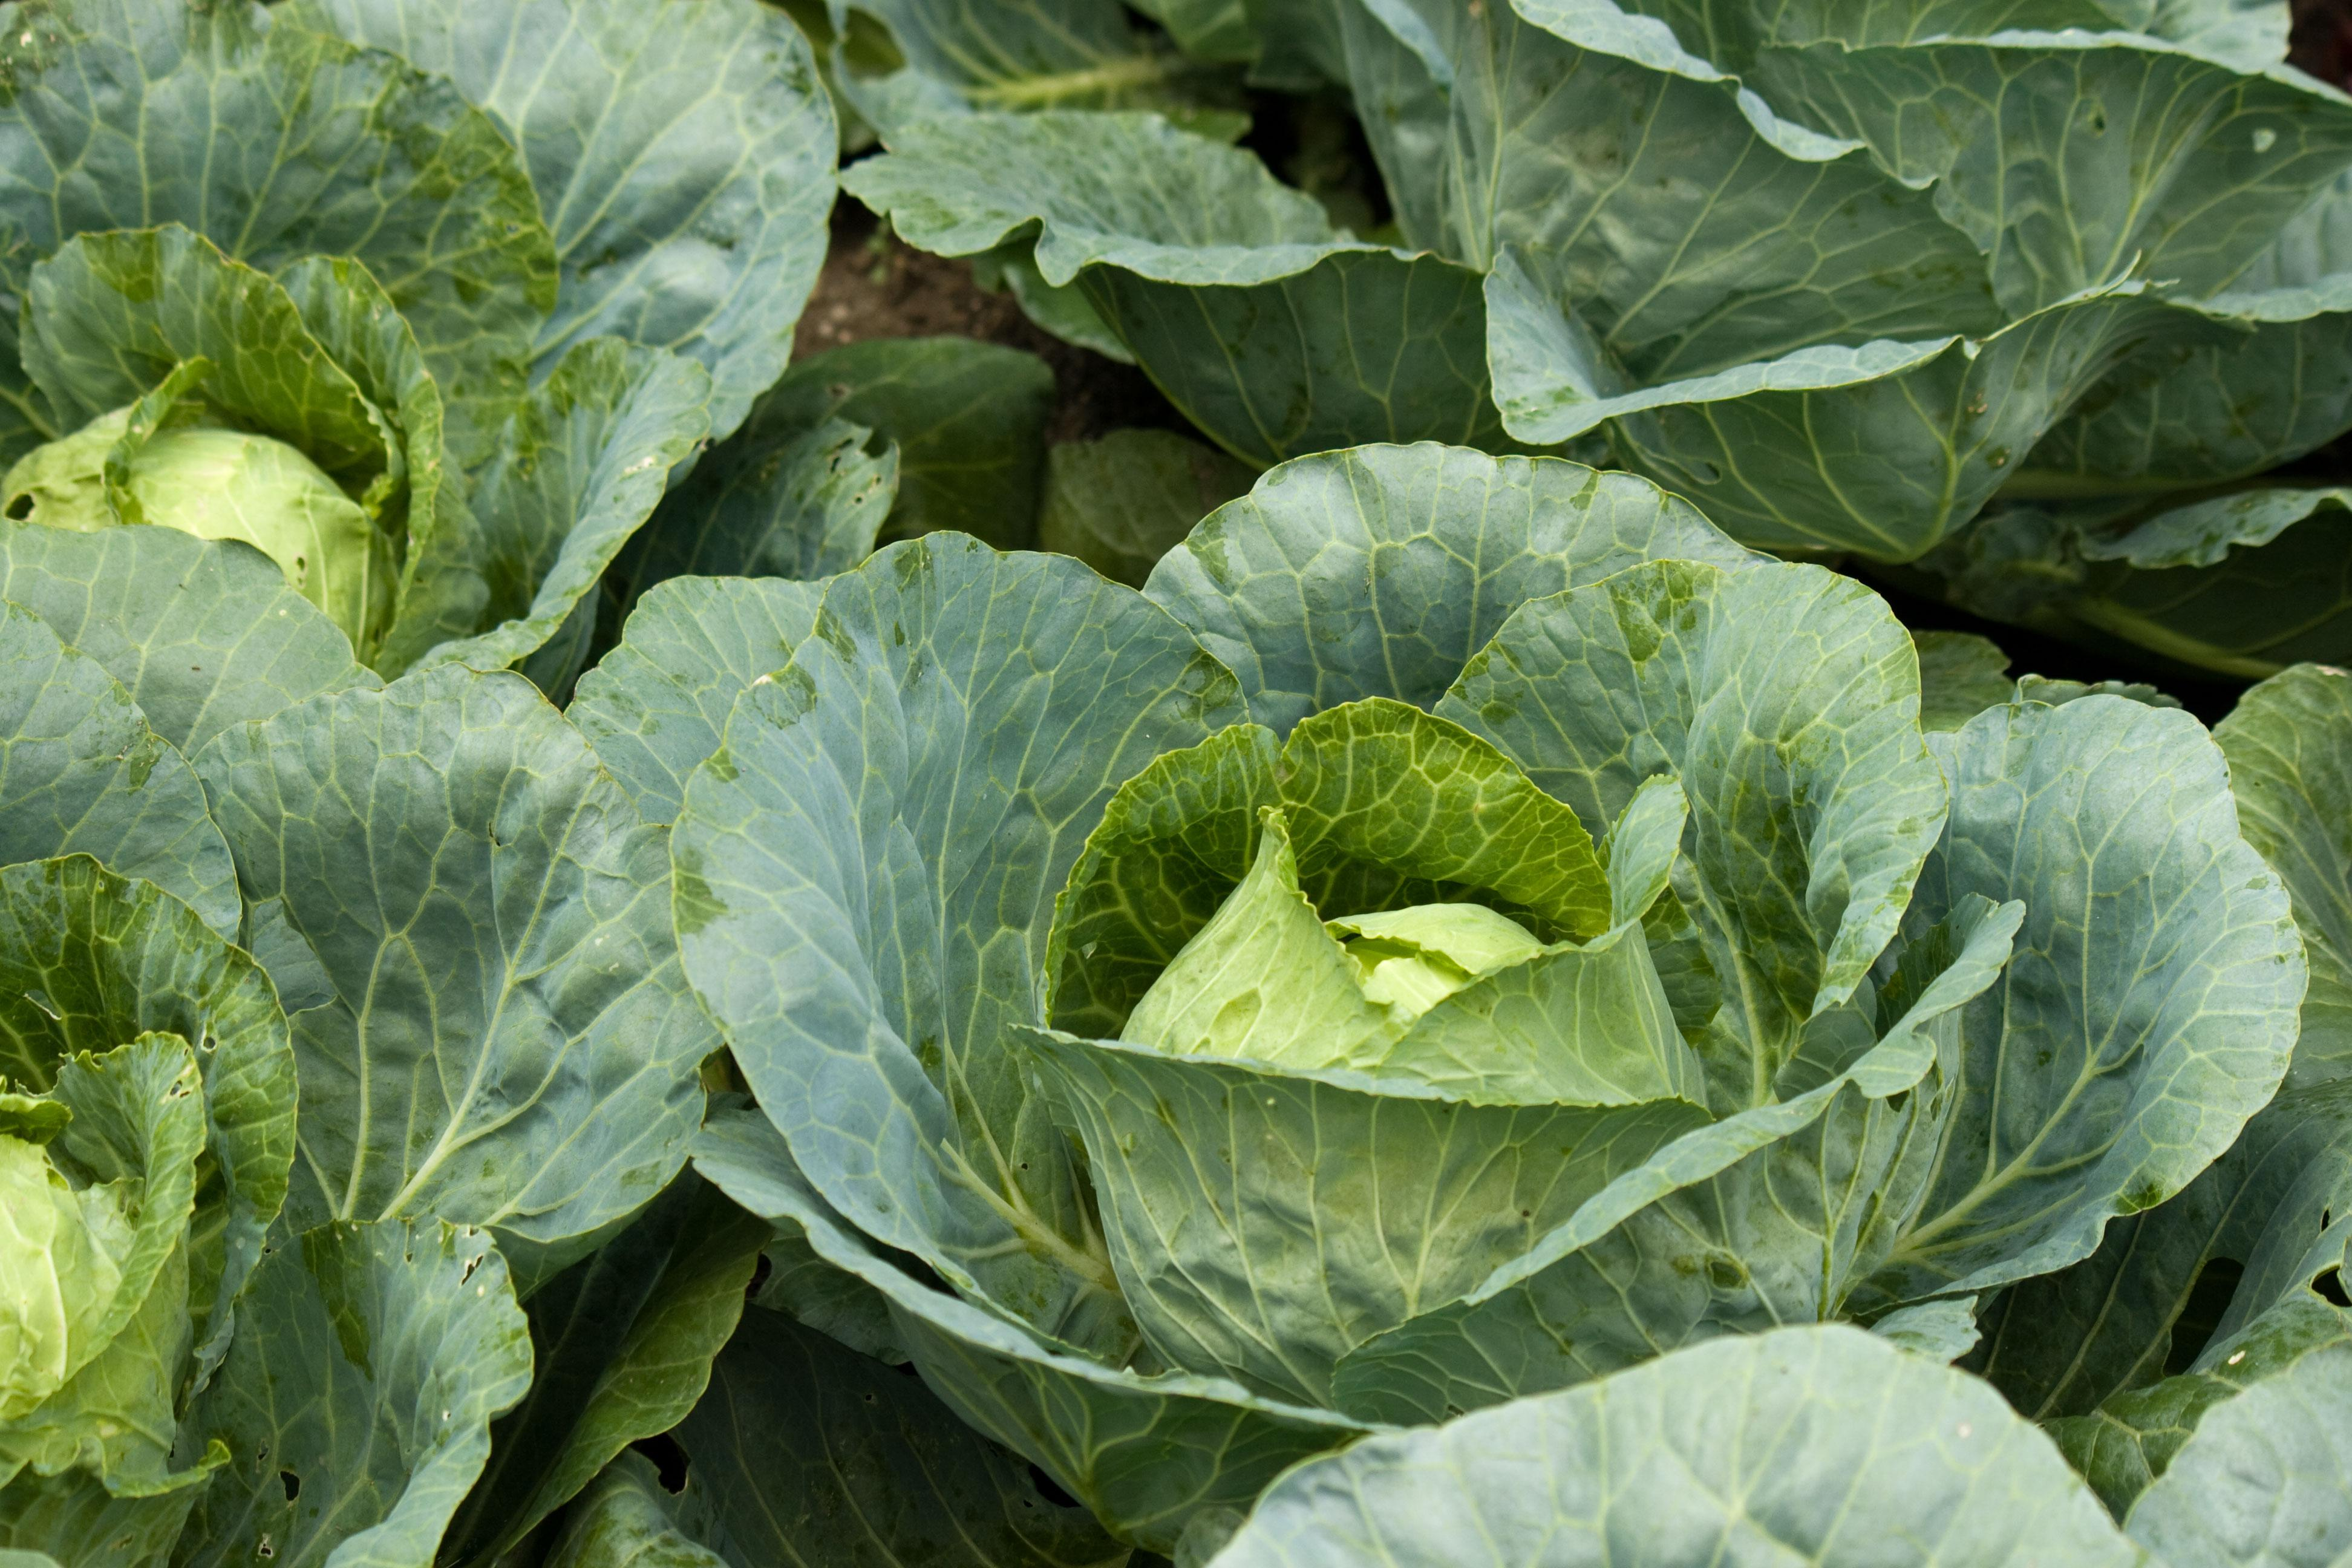cabbage: (3, 2, 2348, 1564), (817, 0, 2350, 683), (2, 0, 843, 695)
